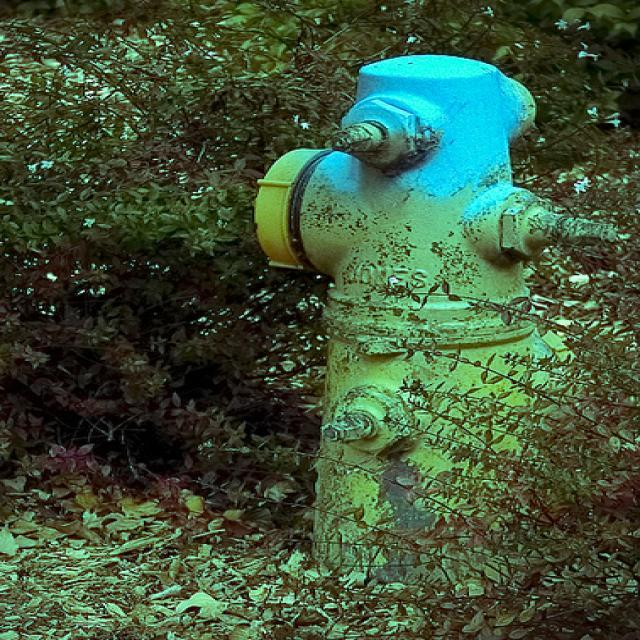fire_hydrant: (250, 51, 620, 597)
